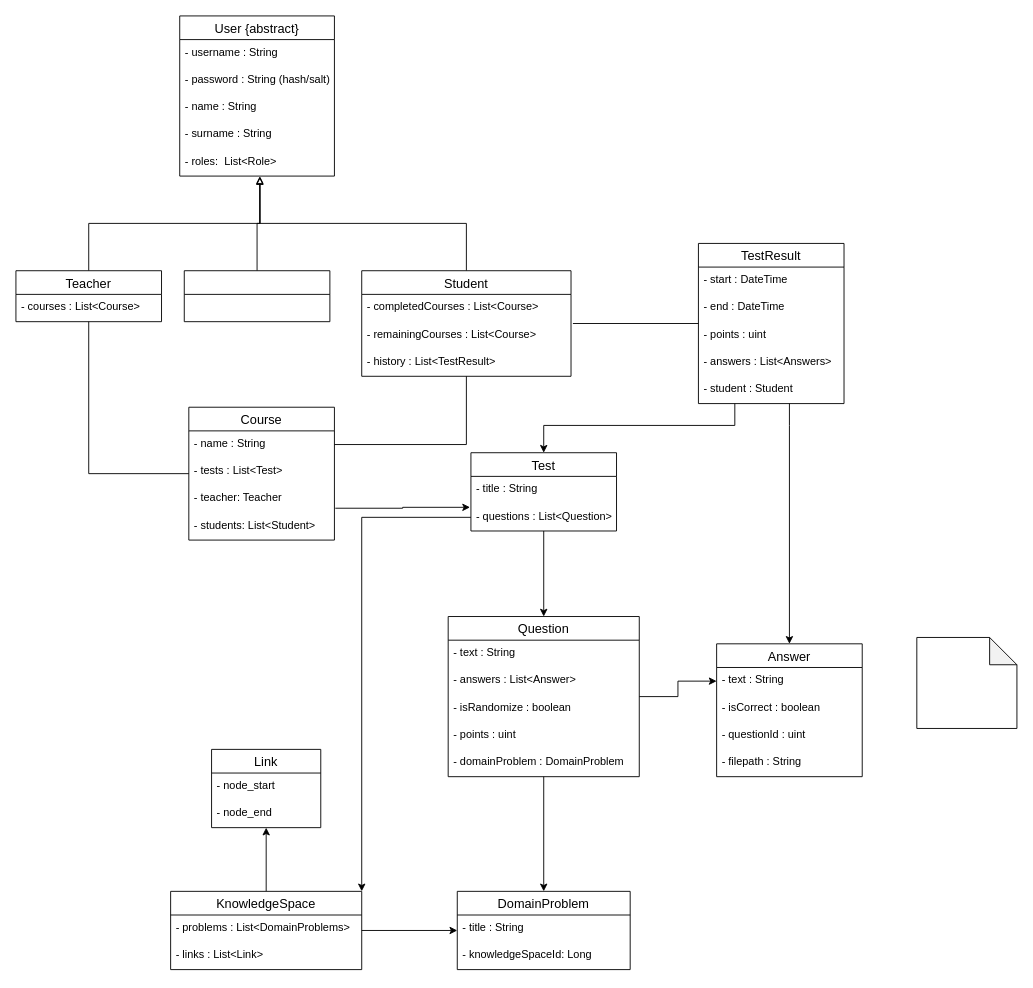
Image size: 1033x988. Some labels were removed from this diagram. Here are the shapes that lost their labels. From the top down, the centre of each, then its label:
At (x=256, y=296): "Admin".
At (x=966, y=682): "Srediti poene pitanja/odgovora".
